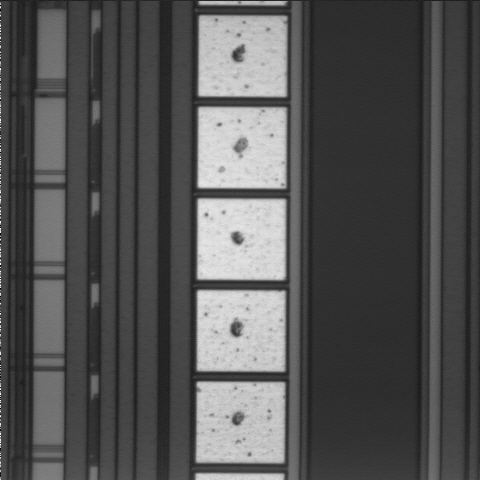pad: (198, 107, 286, 188), (196, 382, 284, 463), (198, 199, 285, 280), (197, 291, 285, 371), (199, 16, 286, 96)
